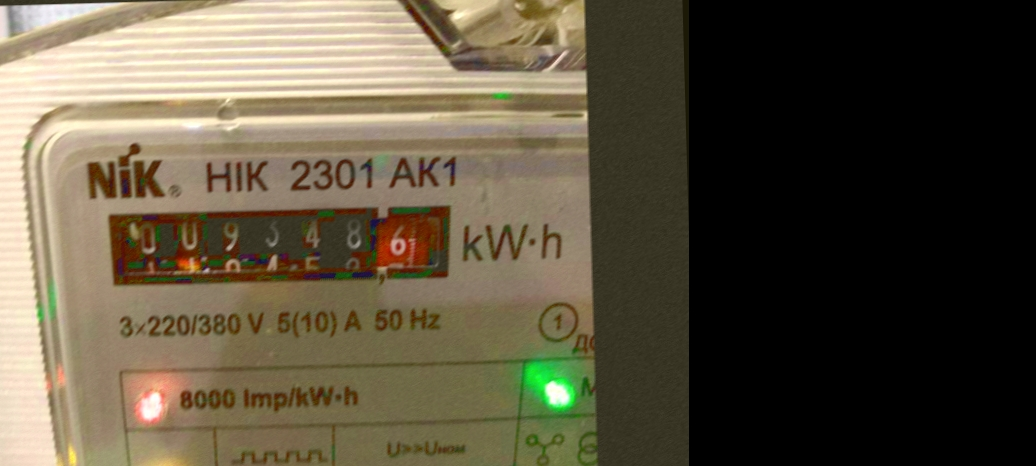0: (179, 219, 201, 256), (138, 222, 159, 258)
3: (261, 218, 284, 250)
4: (301, 217, 323, 254)
6: (388, 224, 411, 259)
8: (344, 218, 365, 252)
9: (222, 219, 241, 254)
screen: (85, 192, 473, 304)
